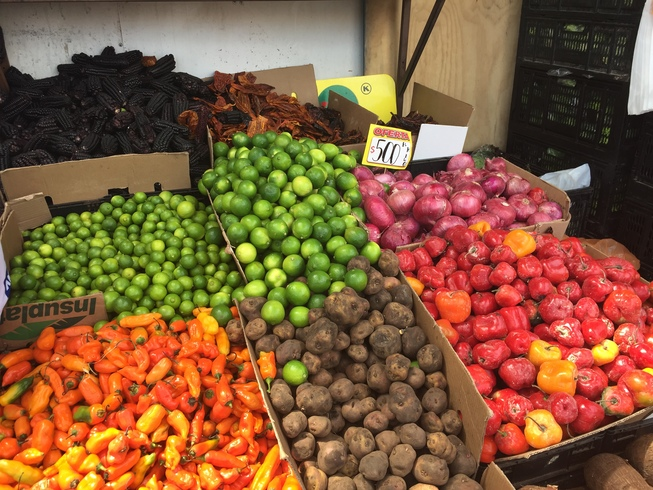precio: (361, 120, 416, 175)
